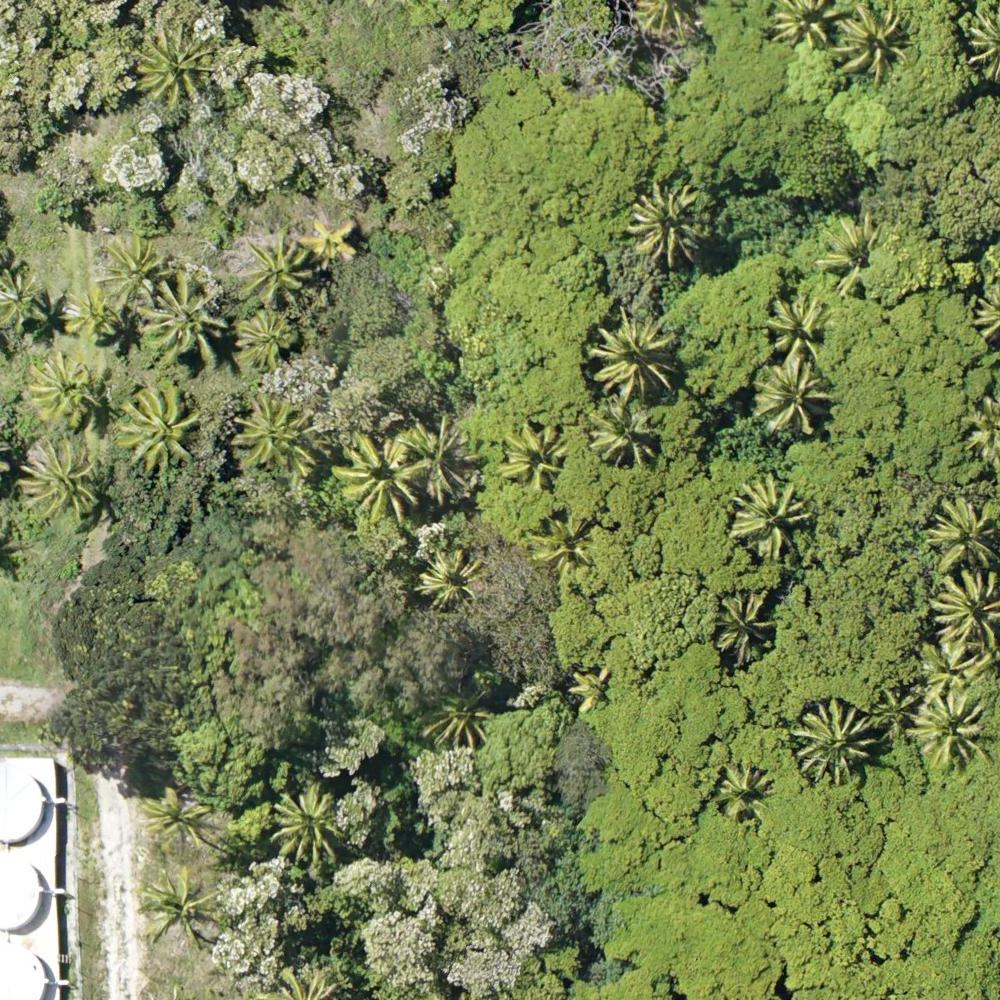Palm: (589, 304, 681, 397), (135, 278, 231, 364), (336, 428, 420, 519), (723, 475, 812, 557), (914, 686, 997, 773), (135, 862, 222, 945), (624, 181, 708, 264), (271, 781, 347, 871), (131, 26, 215, 106), (23, 439, 101, 525), (753, 361, 834, 440), (922, 491, 1000, 573), (793, 701, 876, 778), (120, 386, 193, 471), (233, 394, 308, 473), (835, 5, 915, 76), (586, 395, 662, 467), (406, 419, 476, 496), (239, 232, 311, 306), (931, 572, 1000, 649), (821, 214, 888, 291), (31, 356, 104, 424), (138, 783, 209, 852), (500, 417, 570, 486), (711, 590, 776, 662), (529, 511, 602, 575), (98, 241, 168, 307), (762, 296, 830, 360), (422, 545, 490, 606), (62, 286, 122, 351), (233, 308, 297, 366), (772, 1, 840, 50), (719, 758, 770, 821), (308, 217, 359, 262)
